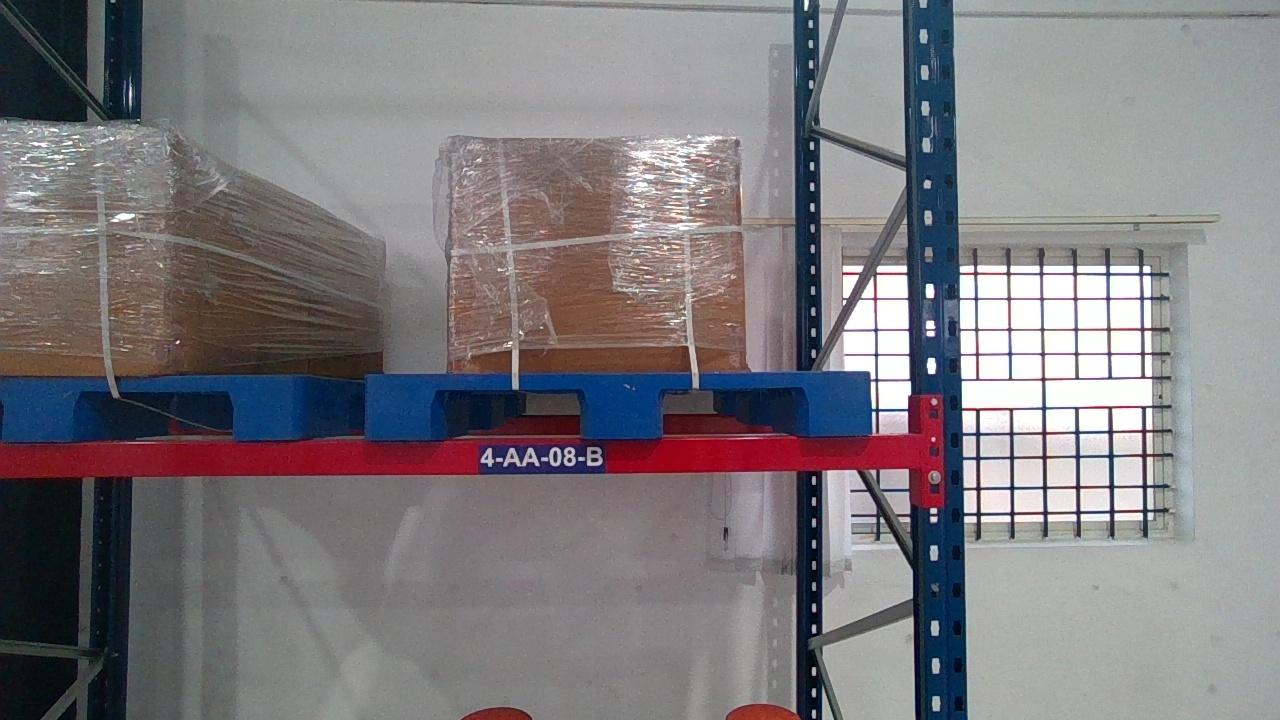h_rack: (3, 435, 923, 475)
small_pallet: (363, 369, 873, 433), (1, 374, 303, 437)
